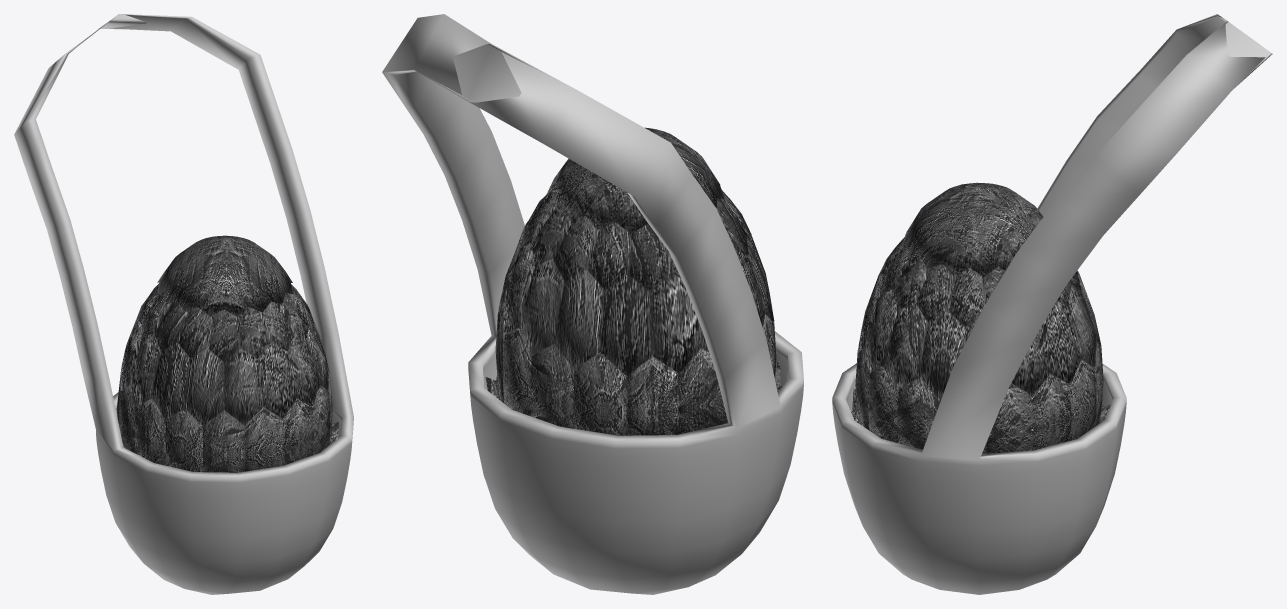
The model's file is portauovo.fbx.
3 views of the same model, side by side, from view 1: azimuth 30°, elevation 25°; view 2: azimuth 150°, elevation 25°; view 3: azimuth 270°, elevation 25° (orthographic). The views are drawn at different scales.
Visible parts, largest first — view 1: porta_uovo1, Dragon Egg; view 2: porta_uovo1, Dragon Egg; view 3: porta_uovo1, Dragon Egg.
Part boxes in pixels (<box>): porta_uovo1: <box>14,14,353,594</box>; Dragon Egg: <box>116,235,338,472</box>; porta_uovo1: <box>382,14,803,594</box>; Dragon Egg: <box>485,127,782,435</box>; porta_uovo1: <box>832,14,1272,594</box>; Dragon Egg: <box>851,182,1110,453</box>.
Size of the model in its own units: 77.74 by 162 by 115.
